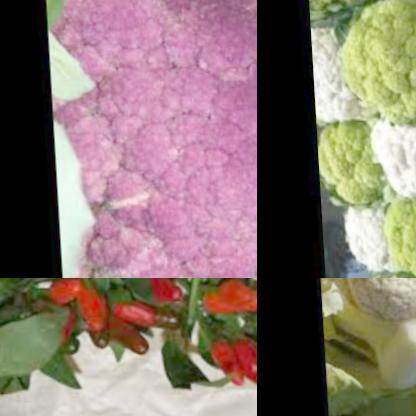cayliflower: (45, 0, 257, 278), (313, 278, 416, 416), (327, 0, 416, 128), (307, 17, 372, 130), (312, 117, 386, 213), (352, 104, 416, 203), (334, 192, 399, 278), (370, 196, 416, 278)
hot pepper: (187, 332, 257, 395), (80, 307, 144, 364), (203, 278, 257, 326), (74, 285, 113, 337), (106, 298, 159, 333), (125, 278, 181, 309), (45, 278, 87, 309)
